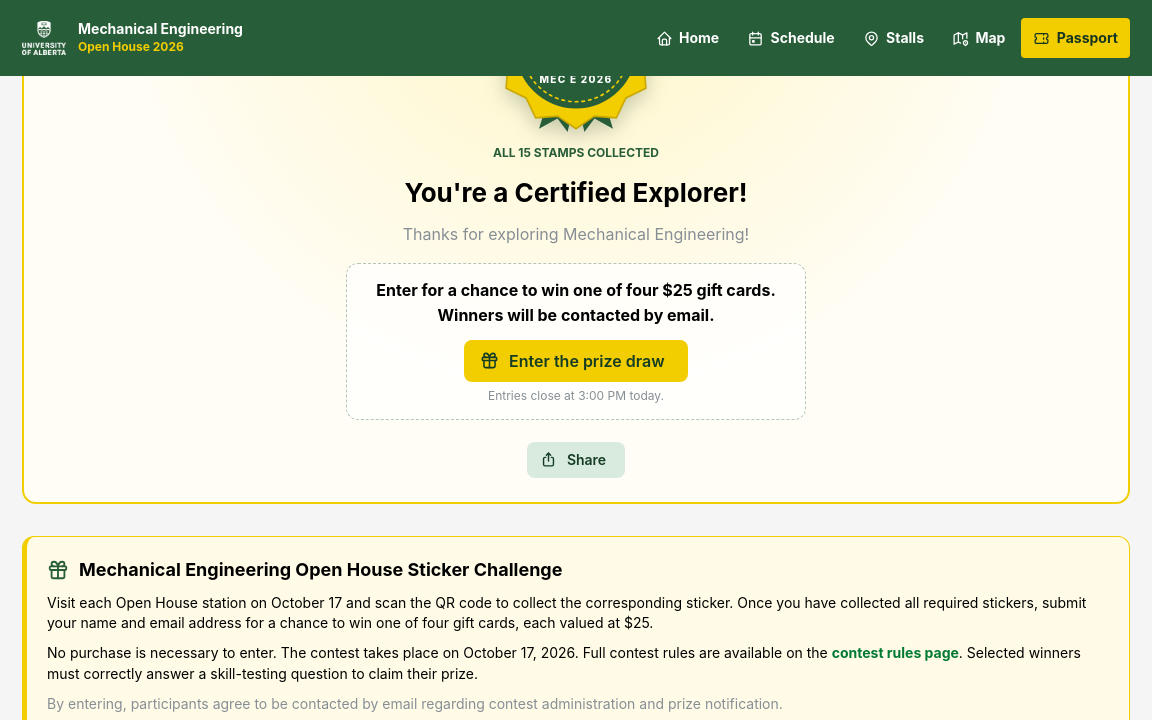
Test case: prize draw entry › asks for the details and the terms before sending anything
This screenshot has width=1152, height=720.
(page scrolled)
What coordinates should you click on to do the following:
click the button "Enter the prize draw"
I would click on:
 (576, 361)
Its box is [464,340,688,382].
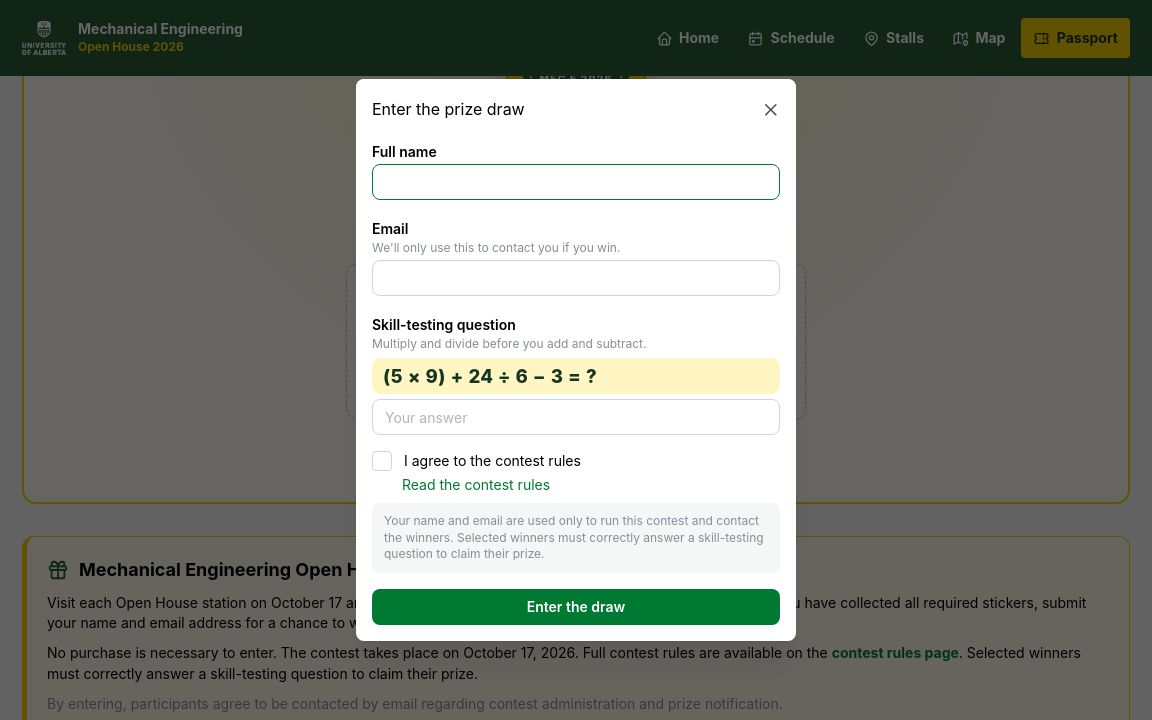
What coordinates should you click on to do the following:
click the button "Enter the draw"
I would click on:
 (576, 607)
Its box is [372,589,780,625].
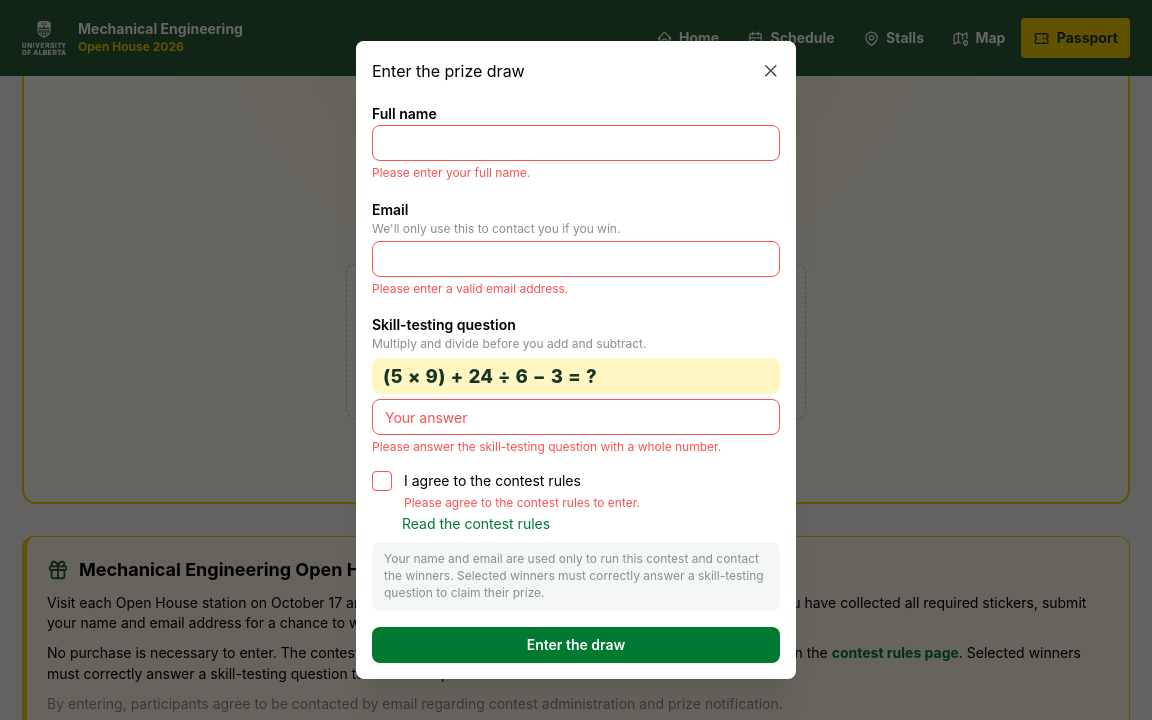
Expected: the text "Please enter your full name." is shown, [372,165,530,180]
Expected: the text "Please enter a valid email address." is shown, [372,281,568,296]
Expected: the text "Please answer the skill-testing question with a whole number." is shown, [372,440,780,455]
